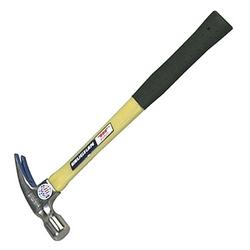hammer: (12, 8, 233, 242)
